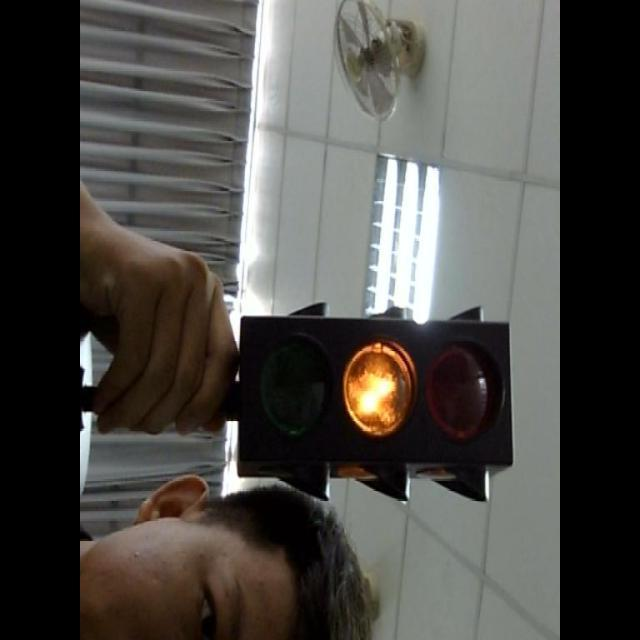yellow_light: (237, 314, 510, 463)
